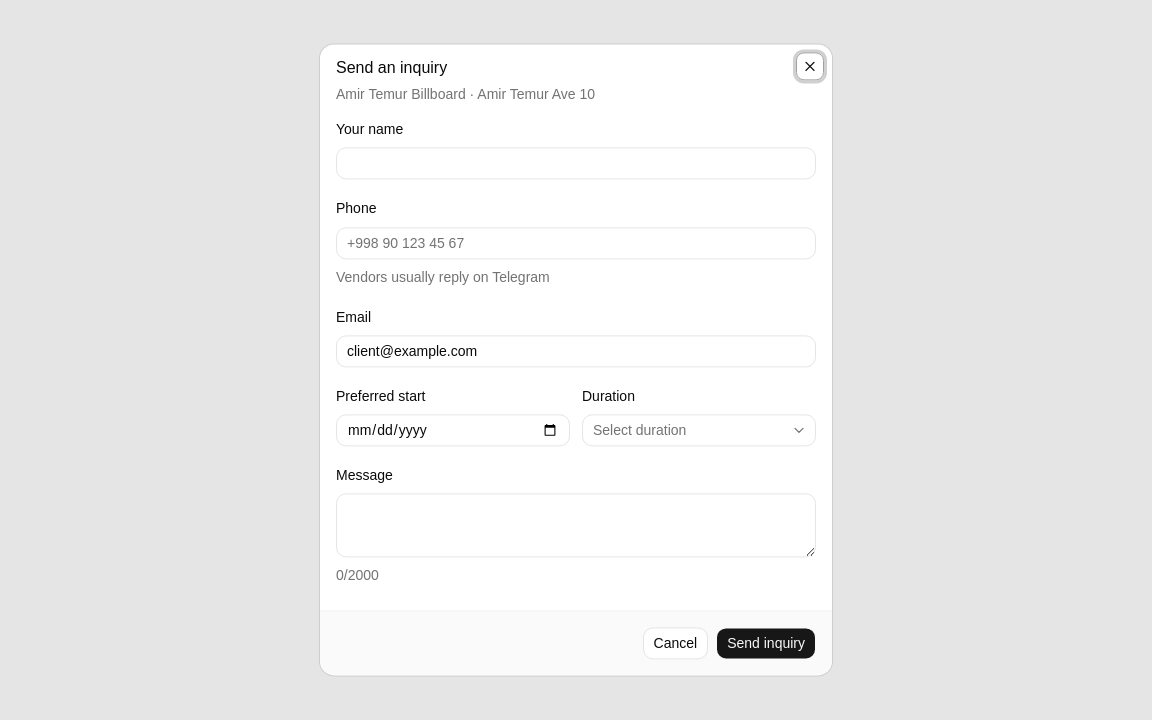
Test: InquiryFormDialog › swaps to the sign-in prompt when the session has expired
Type "Aziza Karimova" into the field labelled "Your name" at (576, 164), box [336,148,816,180]
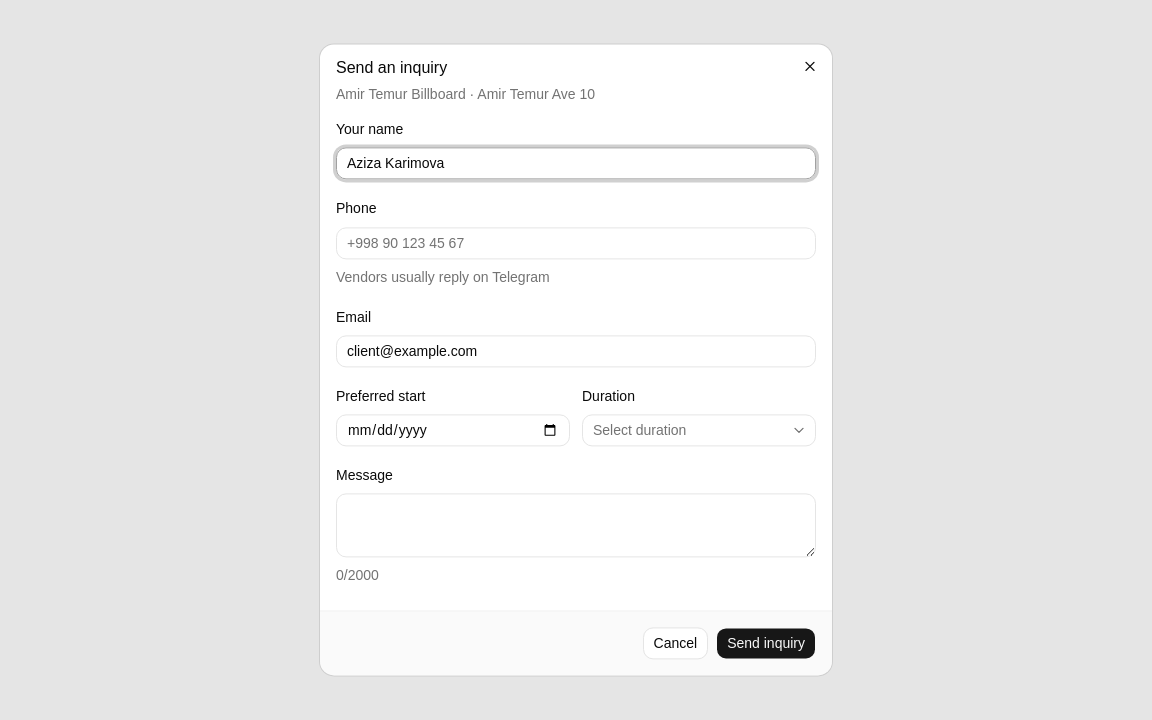
Type "+998901234567" into the field labelled "Phone" at (576, 243), box [336,227,816,259]
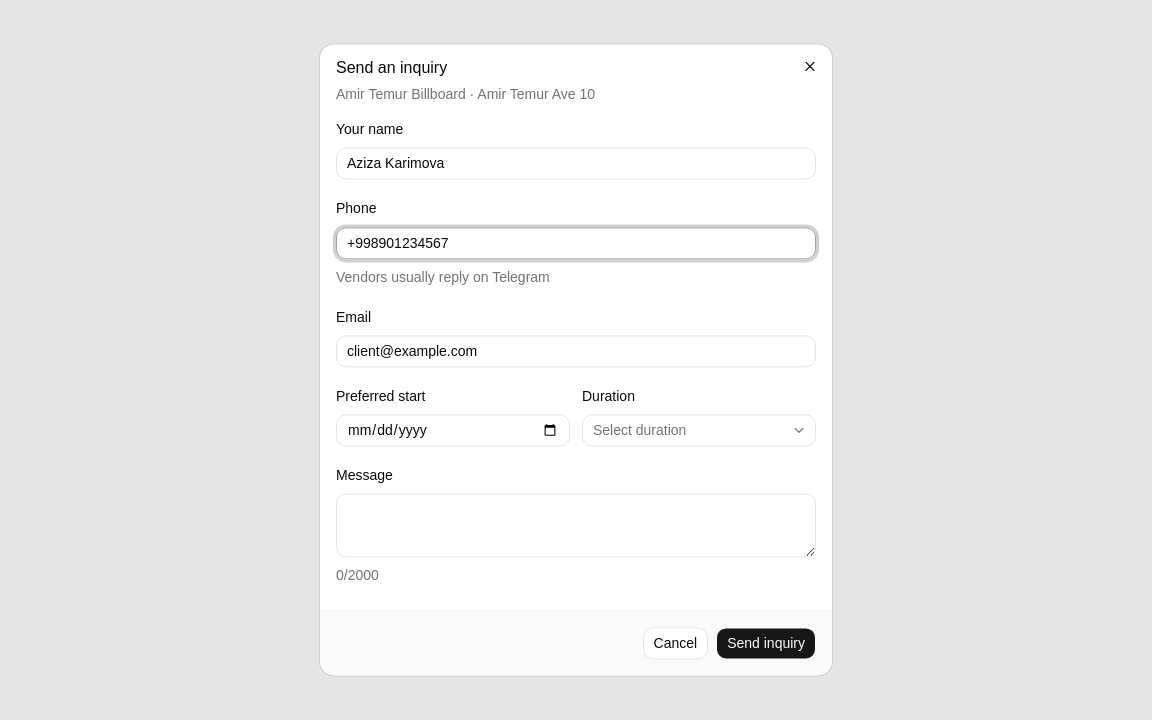
Type "We would like a two-month campaign here." into the text box labelled "Message" at (576, 526), box [336,494,816,558]
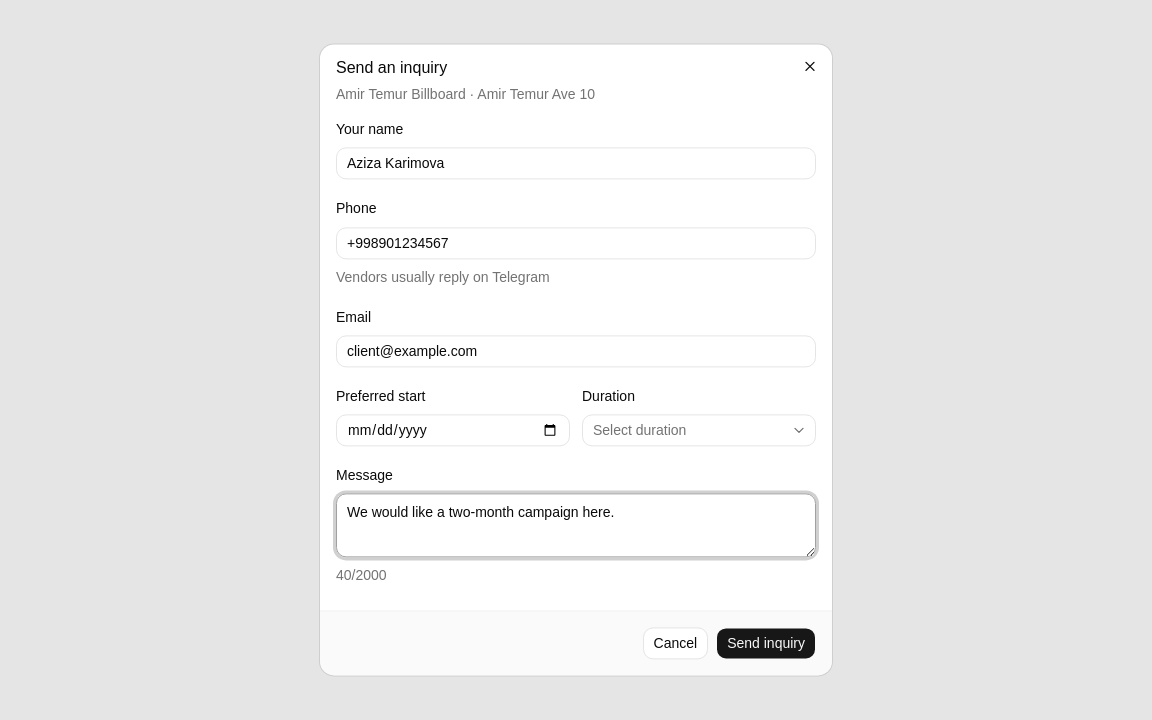
Click the button "Send inquiry" at (766, 644), box [716,628,816,660]
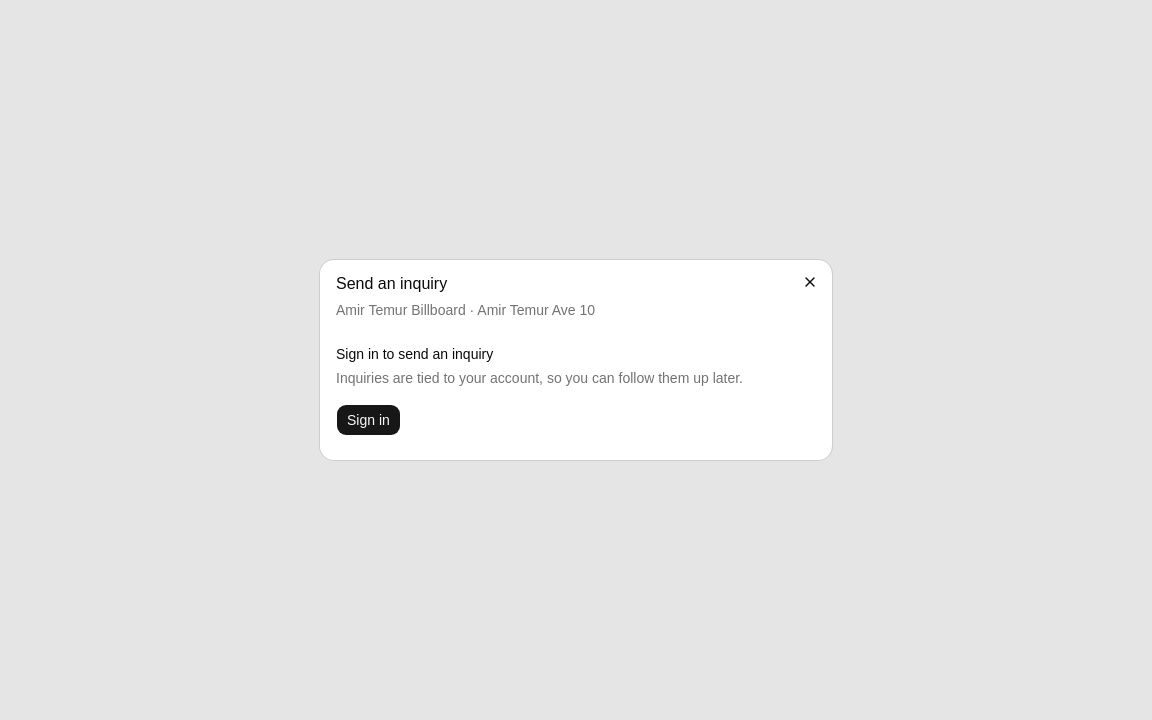
expect the text "Sign in to send an inquiry" is shown: met, box [336,346,493,362]
